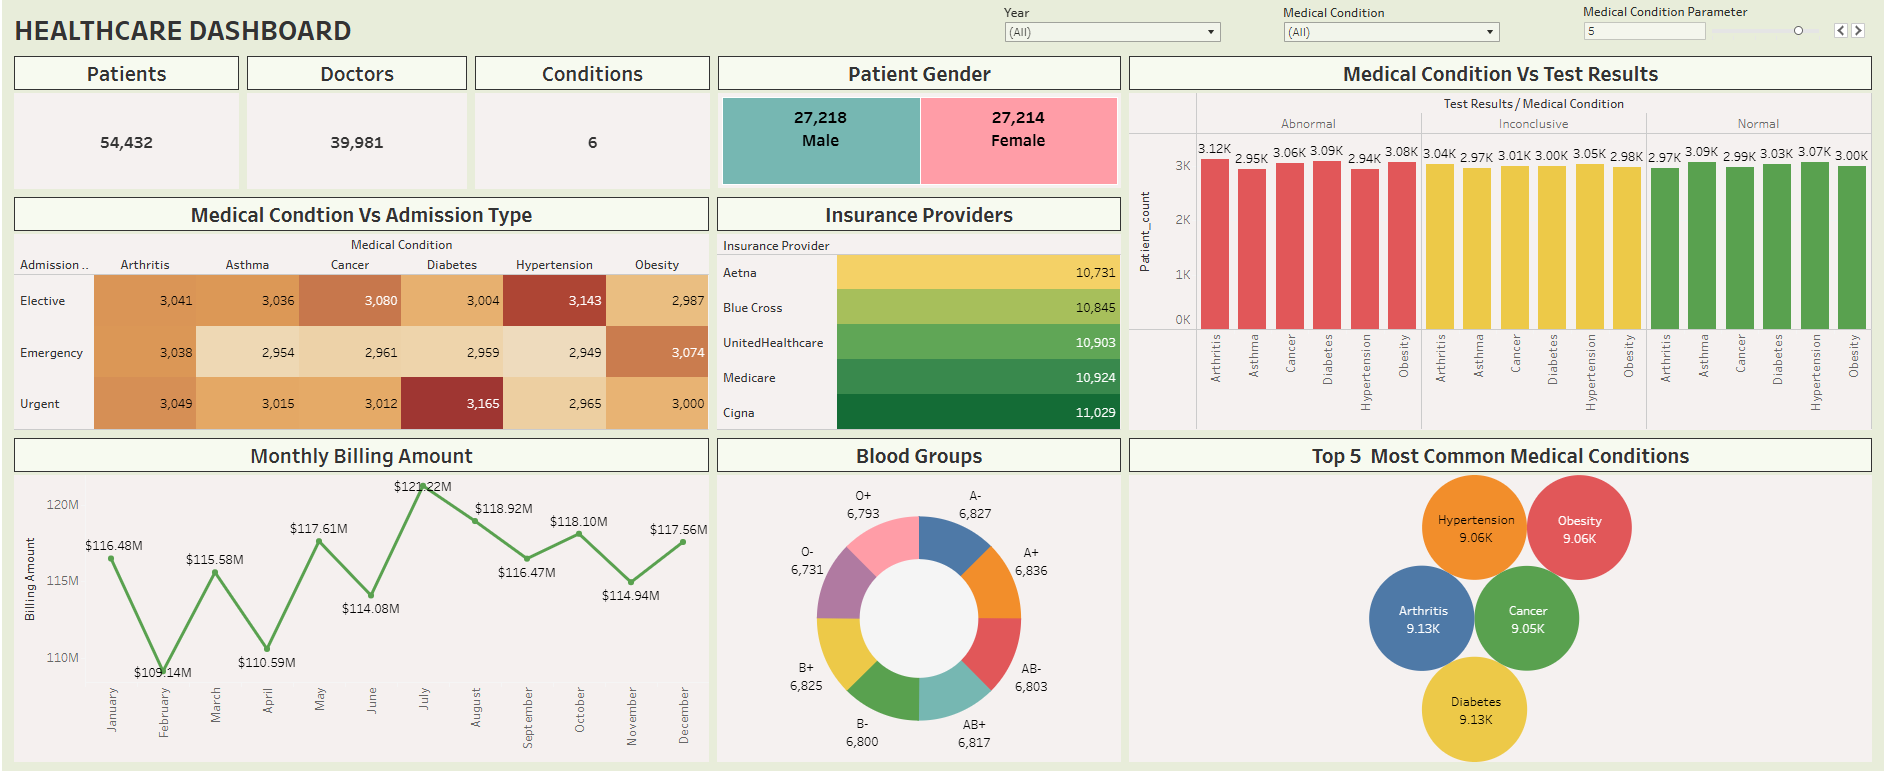

The page's visual inventory and layout, read from the dashboard file:
{"tool":"tableau","page":{"name":"Dashboard 1","canvas":[1000,1000],"units":"permille","ordinal":0},"visuals":[{"type":"parameter","param":"[Parameters].[Parameter 1]","box":[840,4.7,151.7,61]},{"type":"filter","title":"Monthly Billing Amount","param":"[federated.0jx35xx0x3bk4o1bu76v80rzd26p].[yr:Discharge Date:ok]","box":[532.4,5.9,115.9,66.9]},{"type":"filter","title":"Medical Condition Vs Test Results","param":"[federated.0jx35xx0x3bk4o1bu76v80rzd26p].[none:Medical Condition:nk]","box":[680.7,7,115.9,58.7]},{"type":"title","box":[4.9,9.4,990.2,62.3]},{"type":"worksheet","title":"Patients","mark":"Text","box":[4.9,71.7,123.6,181.2]},{"type":"worksheet","title":"Doctors","mark":"Automatic","box":[128.5,71.7,120.8,181.2]},{"type":"worksheet","title":"Medical Conditions","mark":"Automatic","box":[249.3,71.7,129.1,181.2]},{"type":"worksheet","title":"Patient Gender","mark":"Automatic","box":[378.5,71.7,218.1,181.2]},{"type":"worksheet","title":"Medical Condition Vs Test Results","mark":"Automatic","rows":["Calculation_1827898531957596160"],"cols":["Test Results","Medical Condition"],"box":[596.6,71.7,398.5,440.7]},{"type":"worksheet","title":"Medical Condtion Vs Admission Type","mark":"Square","rows":["Admission Type"],"cols":["Medical Condition"],"box":[4.9,252.9,373.3,310]},{"type":"worksheet","title":"Insurance Providers","mark":"Square","rows":["Insurance Provider"],"box":[378.2,252.9,218.3,335.5]},{"type":"worksheet","title":"Sheet 7","mark":"Circle","box":[596.6,512.3,398.5,478.3]},{"type":"worksheet","title":"Monthly Billing Amount","mark":"Line","rows":["Billing Amount"],"cols":["Discharge Date"],"box":[4.9,562.9,373.3,427.7]},{"type":"worksheet","title":"Blood Groups","mark":"Pie","rows":["Calculation_1827898531969773574","Calculation_1827898531969773574"],"box":[378.2,588.4,218.3,402.2]}]}

Visuals, with their boxes on the dashboard's canvas, which has no fixed pixel size, in thousandths of its width and height (x1, y1, x2, y2). These are canvas units, not pixel positions in the 1887x771 screenshot, which may show the page scaled, cropped or inside an application window:
parameter: 840, 5, 992, 66
"Monthly Billing Amount" filter: 532, 6, 648, 73
"Medical Condition Vs Test Results" filter: 681, 7, 797, 66
title: 5, 9, 995, 72
"Patients" worksheet (Text marks): 5, 72, 128, 253
"Doctors" worksheet: 128, 72, 249, 253
"Medical Conditions" worksheet: 249, 72, 378, 253
"Patient Gender" worksheet: 378, 72, 597, 253
"Medical Condition Vs Test Results" worksheet: 597, 72, 995, 512
"Medical Condtion Vs Admission Type" worksheet (Square marks): 5, 253, 378, 563
"Insurance Providers" worksheet (Square marks): 378, 253, 596, 588
"Sheet 7" worksheet (Circle marks): 597, 512, 995, 991
"Monthly Billing Amount" worksheet (Line marks): 5, 563, 378, 991
"Blood Groups" worksheet (Pie marks): 378, 588, 596, 991
